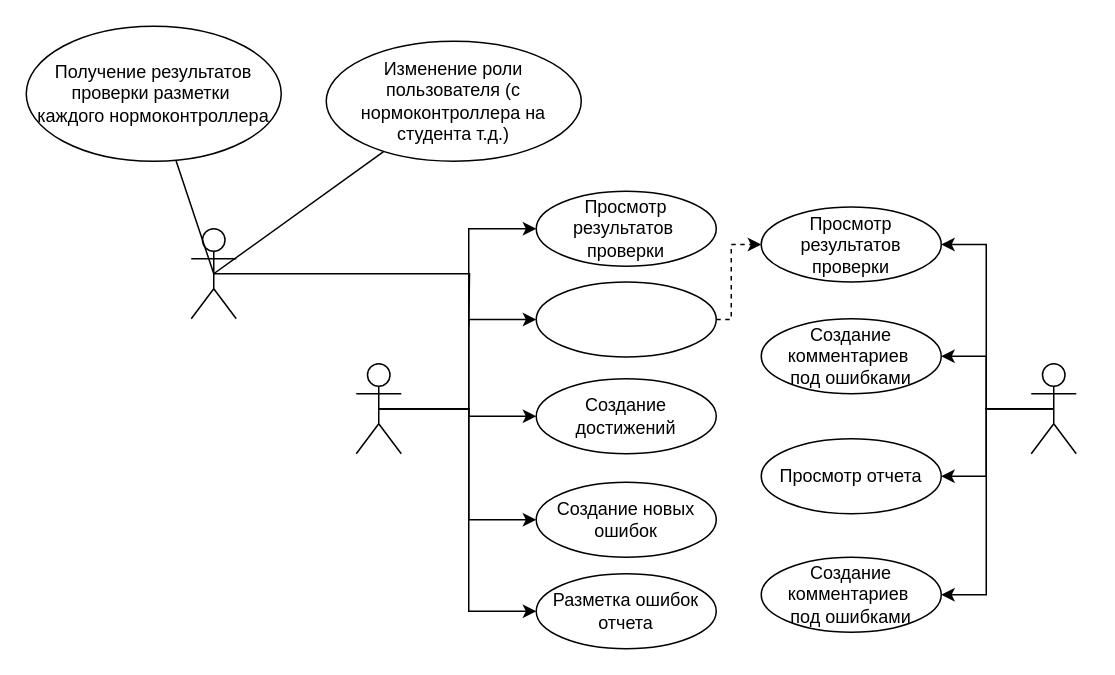
The diagram is 1115 pixels wide and 675 high, and some of its shapes have lost their labels. Each missing label, with the centre of its shape:
Администратор: the point at 213,273
Валидация результатов проверки: the point at 625,318
Нормоконтроллер: the point at 378,408
Студент: the point at 1053,408
